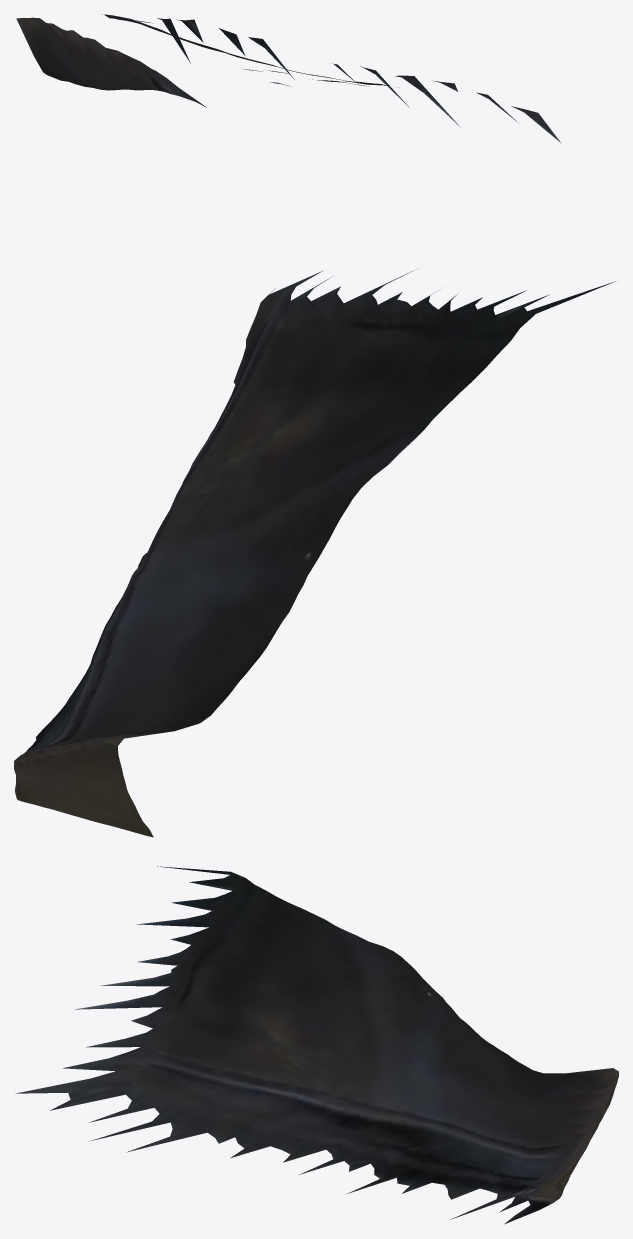
Rendered from observed-surface.glb.
The picture shows the model from 3 angles, top to bottom: view 1: azimuth 30°, elevation 25°; view 2: azimuth 150°, elevation 25°; view 3: azimuth 270°, elevation 25°; orthographic projection. The views are drawn at different scales.
Parts seen in each view (by area): view 1: geometry_0; view 2: geometry_0; view 3: geometry_0.
Boxes of the visible parts, box(x1,y1,x2,y2) form: geometry_0: box(16, 14, 561, 143); geometry_0: box(14, 268, 615, 837); geometry_0: box(15, 866, 618, 1224).
Size of the model in its own units: 0.4606 by 0.4436 by 0.9251.
Materials: 1 (1 with a texture image).
